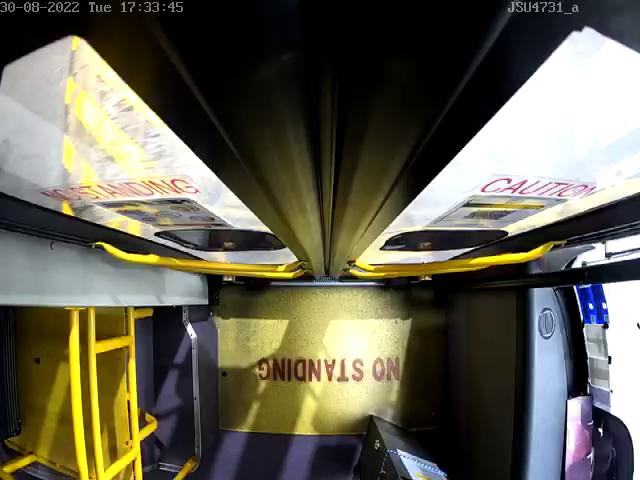close: (0, 0, 640, 121)
